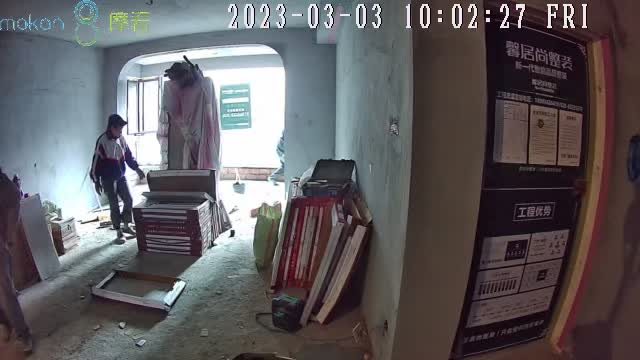people: (92, 114, 145, 243)
window: (129, 67, 287, 172)
